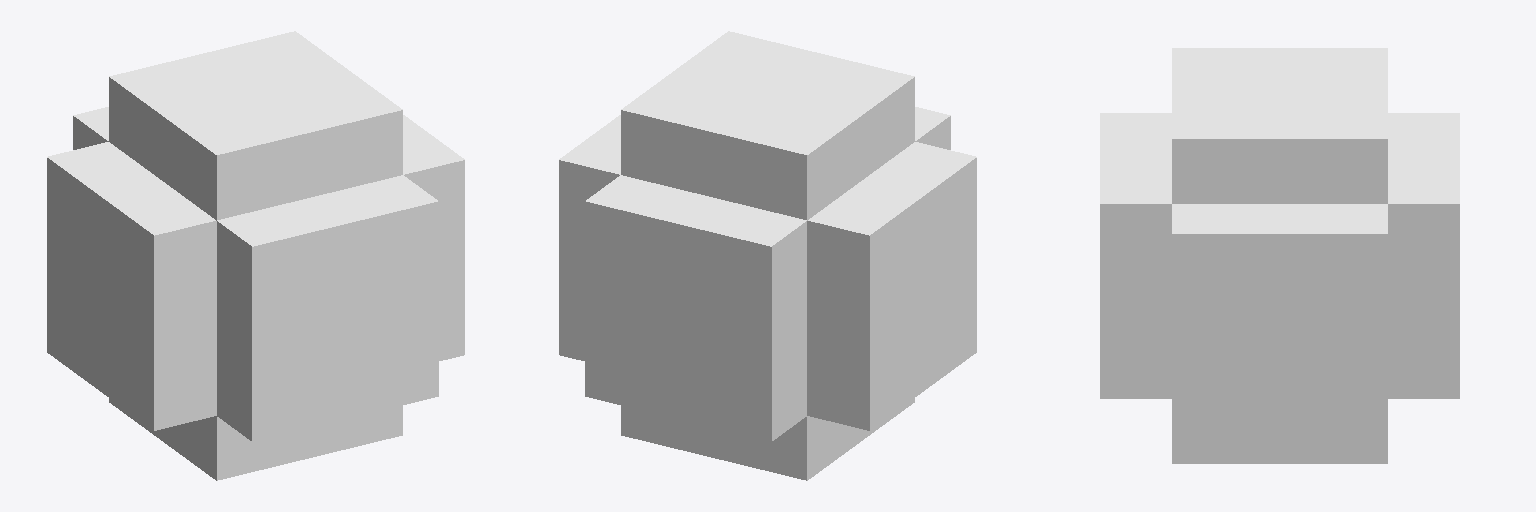
Rendered from Monster_bullet_Ver3.obj.
The picture shows the model from 3 angles: view 1: azimuth 30°, elevation 25°; view 2: azimuth 150°, elevation 25°; view 3: azimuth 270°, elevation 25°; orthographic projection.
Visible parts, largest first — view 1: object 1; view 2: object 1; view 3: object 1.
Part boxes in pixels (bbox=[...]): object 1: bbox=[47, 31, 464, 480]; object 1: bbox=[559, 31, 976, 480]; object 1: bbox=[1100, 48, 1459, 463].
Bounding box in the file's own units: 0.5 × 0.5 × 0.5.